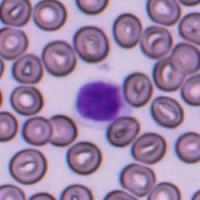L: (73, 77, 130, 128)
